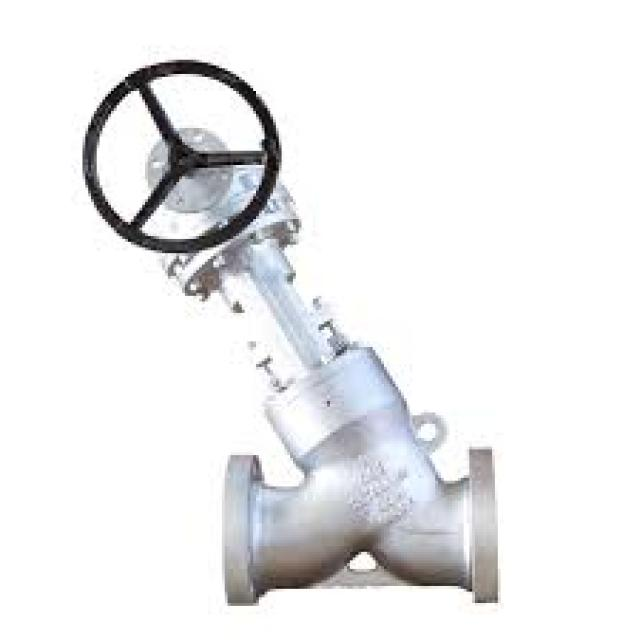Wheel Handle Valve Threaded: (71, 52, 288, 262)
